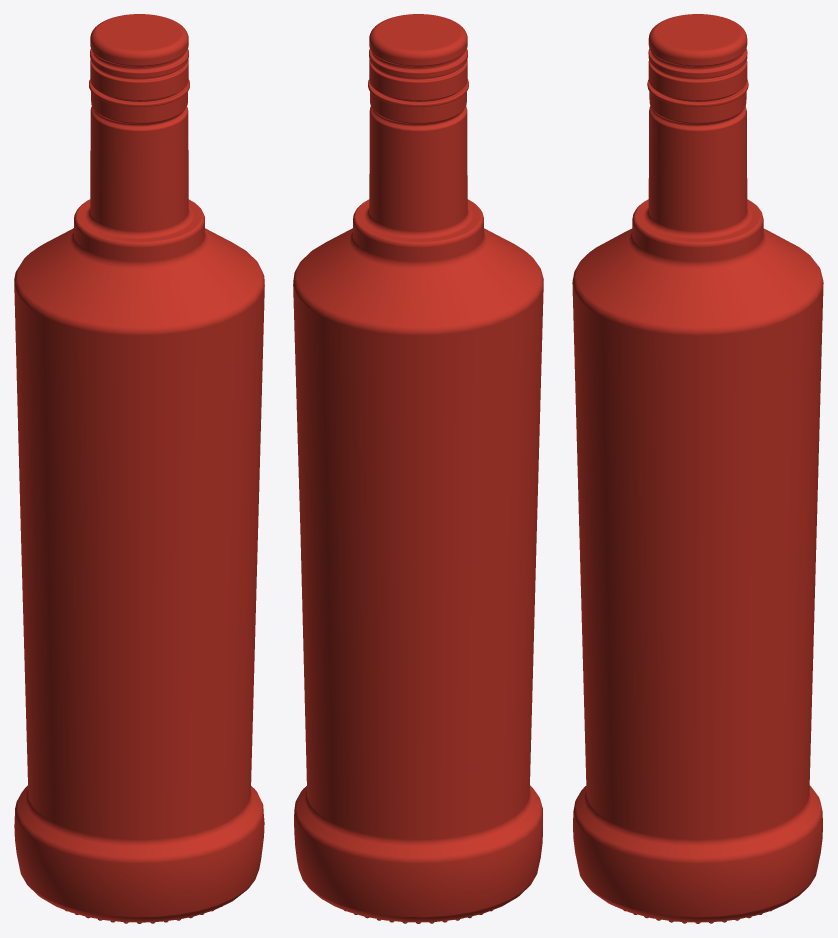
Rendered from uploads_files_4841742_smirnoff+3D+model_kathzerrato.fbx.
The picture shows the model from 3 angles, left to right: view 1: azimuth 30°, elevation 25°; view 2: azimuth 150°, elevation 25°; view 3: azimuth 270°, elevation 25°; orthographic projection.
Visible parts, largest first — view 1: Body32, Body3; view 2: Body32, Body3; view 3: Body32, Body3.
Boxes of the visible parts, x1,y1,x2,y2 form: Body32: (14, 79, 264, 923); Body3: (90, 14, 188, 101); Body32: (293, 79, 543, 923); Body3: (369, 14, 467, 101); Body32: (572, 79, 823, 923); Body3: (648, 14, 747, 101).
Size of the model in its own units: 87.92 by 328 by 87.92.
